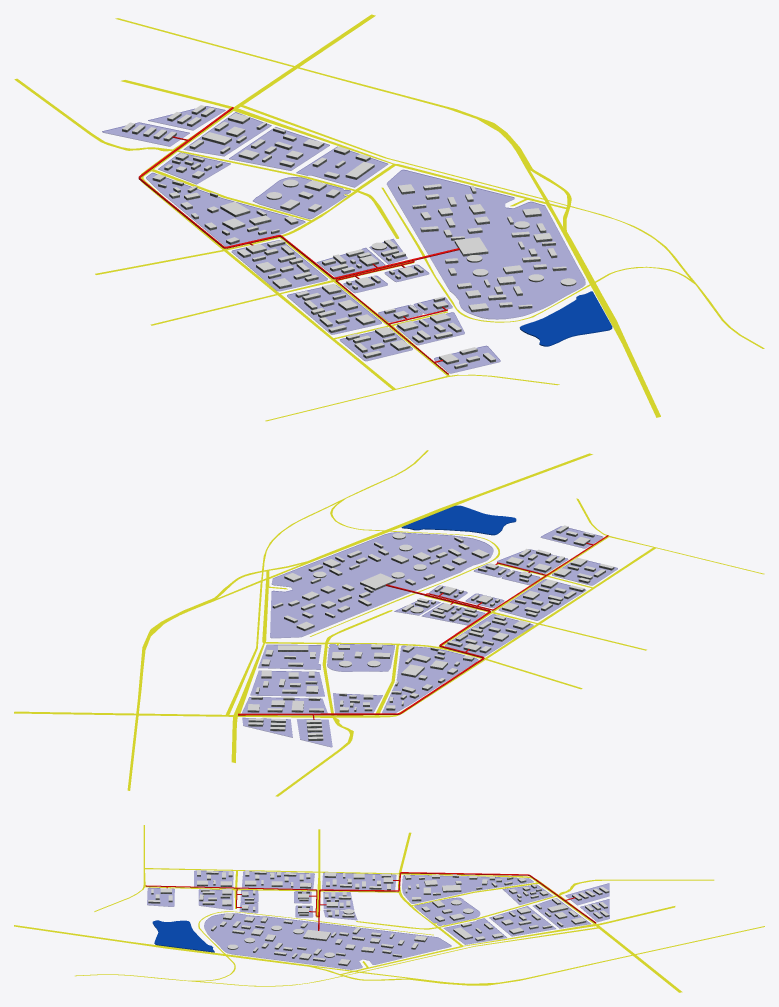
File: city.fbx
3 renders of one model, top to bottom at view 1: azimuth 30°, elevation 25°; view 2: azimuth 150°, elevation 25°; view 3: azimuth 270°, elevation 25°, orthographic. The views are drawn at different scales.
Visible parts, largest first — view 1: qukuai, jianzhu, daolu, Hushui, guanlu; view 2: qukuai, jianzhu, daolu, Hushui, guanlu; view 3: qukuai, jianzhu, daolu, Hushui, guanlu.
Boxes of the visible parts, x1,y1,x2,y2 form: qukuai: (102, 106, 585, 373); jianzhu: (122, 105, 576, 369); daolu: (14, 14, 764, 421); Hushui: (519, 291, 612, 346); guanlu: (138, 107, 459, 374); qukuai: (241, 526, 617, 747); jianzhu: (247, 525, 614, 740); daolu: (14, 450, 764, 796); Hushui: (401, 505, 516, 535); guanlu: (238, 535, 608, 719); qukuai: (147, 870, 609, 969); jianzhu: (148, 870, 609, 966); daolu: (14, 825, 764, 992); Hushui: (152, 920, 214, 952); guanlu: (145, 872, 596, 930).
Bounding box in the file's own units: 2662 × 16.69 × 5035.
Materials: 6 (1 with a texture image).
